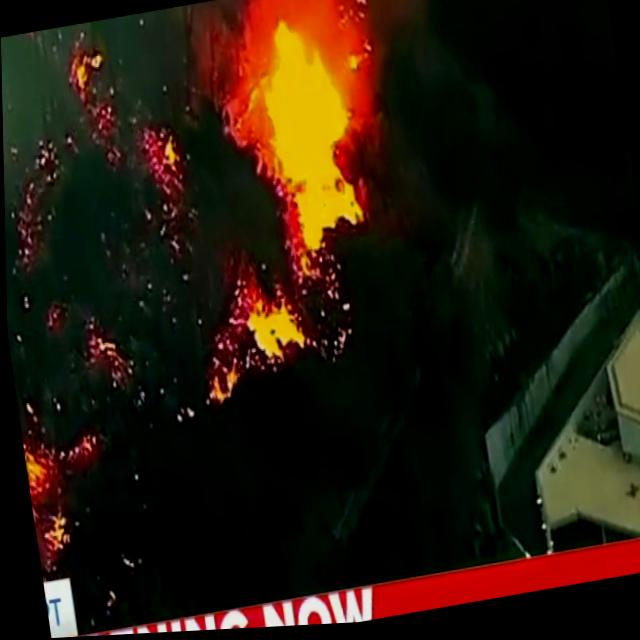fire: (169, 0, 407, 406)
